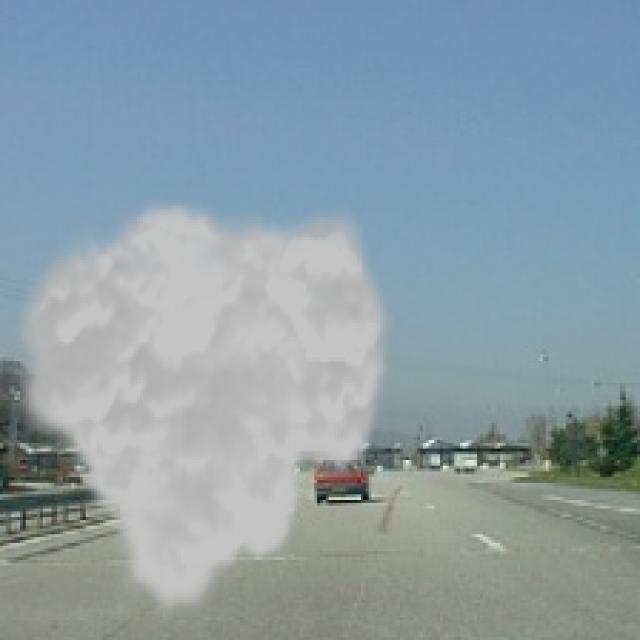Smoke: (6, 197, 397, 623)
